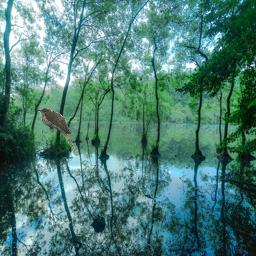Cuckoo: (37, 108, 75, 151)
